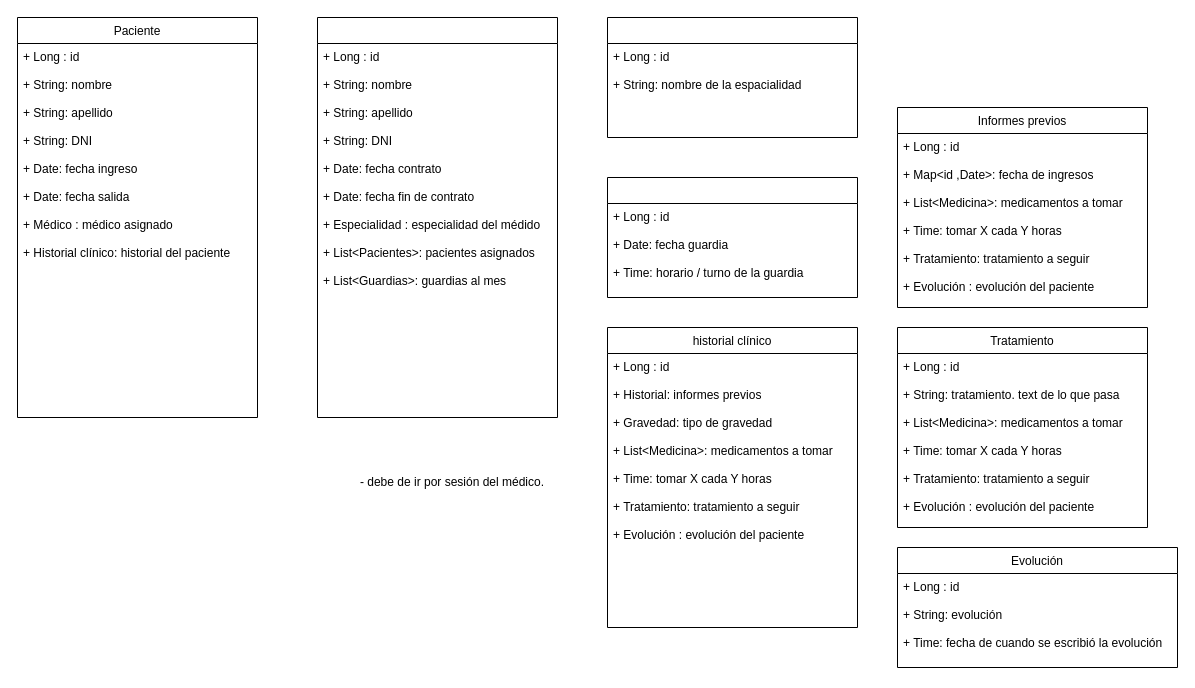
The diagram is 1195 pixels wide and 688 high, and some of its shapes have lost their labels. The box of each missing label's shape, as (x1, y1, x2, y2) in pixels:
Especialidad: (606, 16, 858, 138)
Guardias: (606, 176, 858, 298)
Médico: (316, 16, 558, 418)
